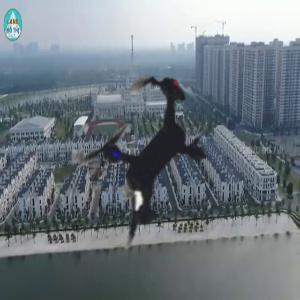drone: (14, 23, 276, 285)
